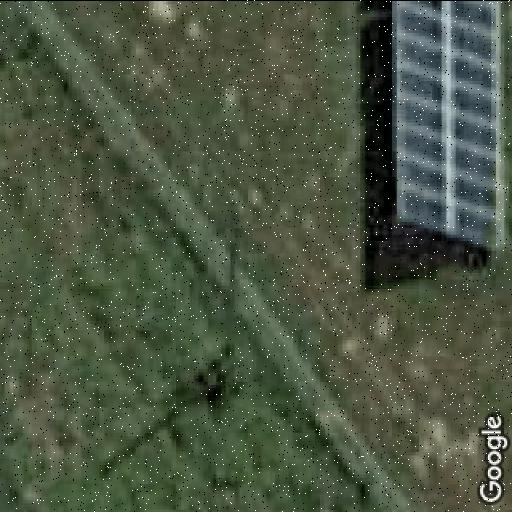solar-panel: (394, 0, 502, 253)
